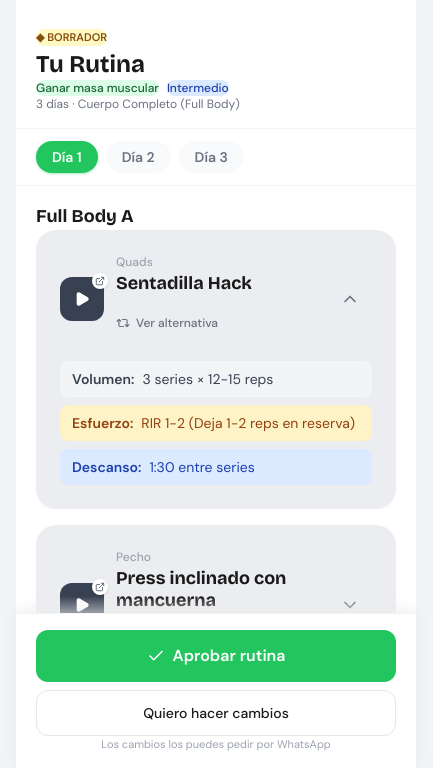
Scenario: DraftPreviewPage › Exercise card — BUG-2 (expanded XOR collapsed, never both) › shows banners (Volumen/Esfuerzo/Descanso) when expanded and hides chip; collapsed shows chip only
The width and height of the screenshot is (433, 768).
Expected: the text "Sentadilla Hack" is shown, [116,272,252,294]
Expected: the text "Volumen:" is shown, [72,368,134,388]
Click the button named "Toggle instructions" next to "Sentadilla Hack". click: [350, 299]
box: [328,277,372,321]
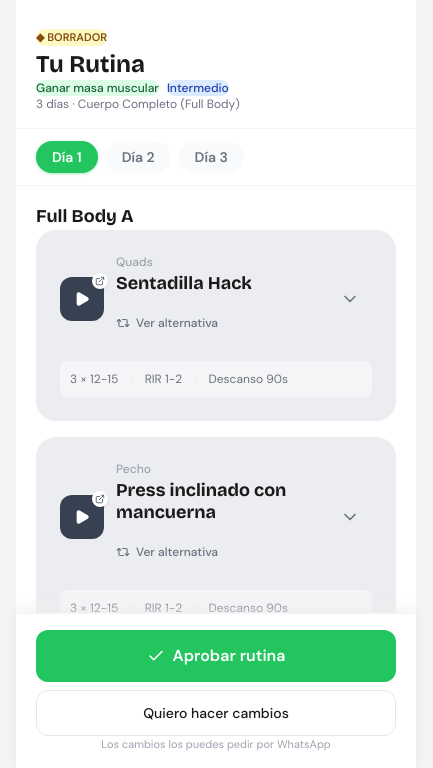
Expected: the text "Volumen:" is gone
Expected: the text "Esfuerzo:" is gone
Expected: the text "Descanso:" is gone
